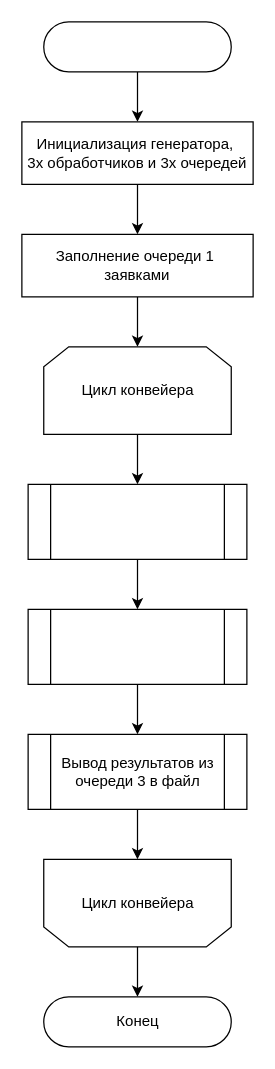
Some shapes in this 275 by 1069 pixel diagram are drawn without their labels. The centre of each missing label's shape, as x and y in pixels:
"Cчитывание графов, помещение результатов в очередь 2" goes at point 137,521.
"Начало" goes at point 136,46.
"Обработка графа, помещение результатов в очередь 3" goes at point 137,646.
